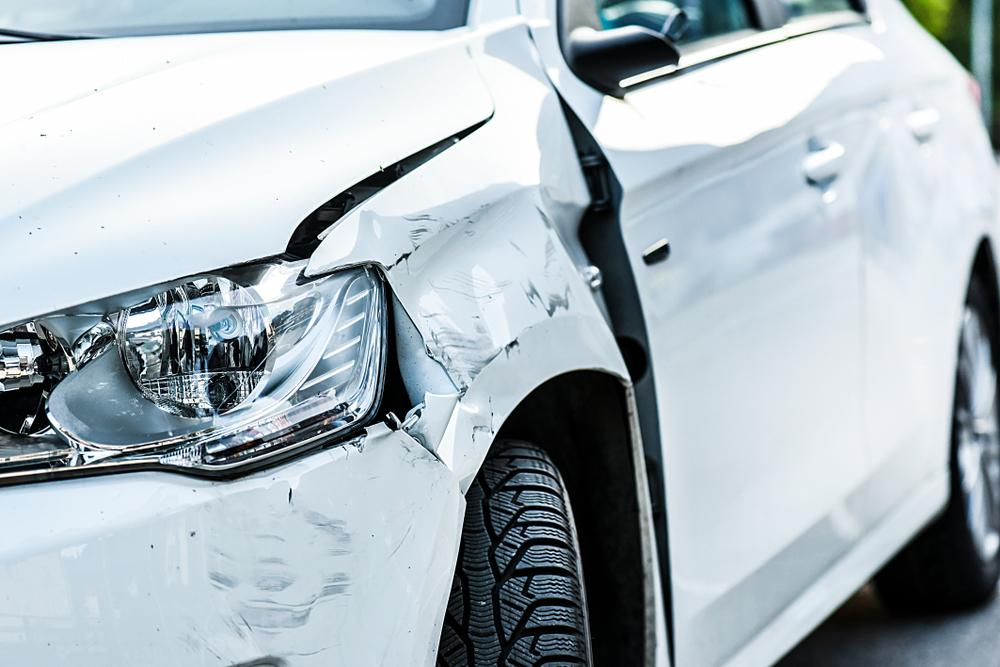lamp broken: (0, 270, 390, 483)
scratch: (382, 183, 578, 468), (196, 484, 355, 667)
